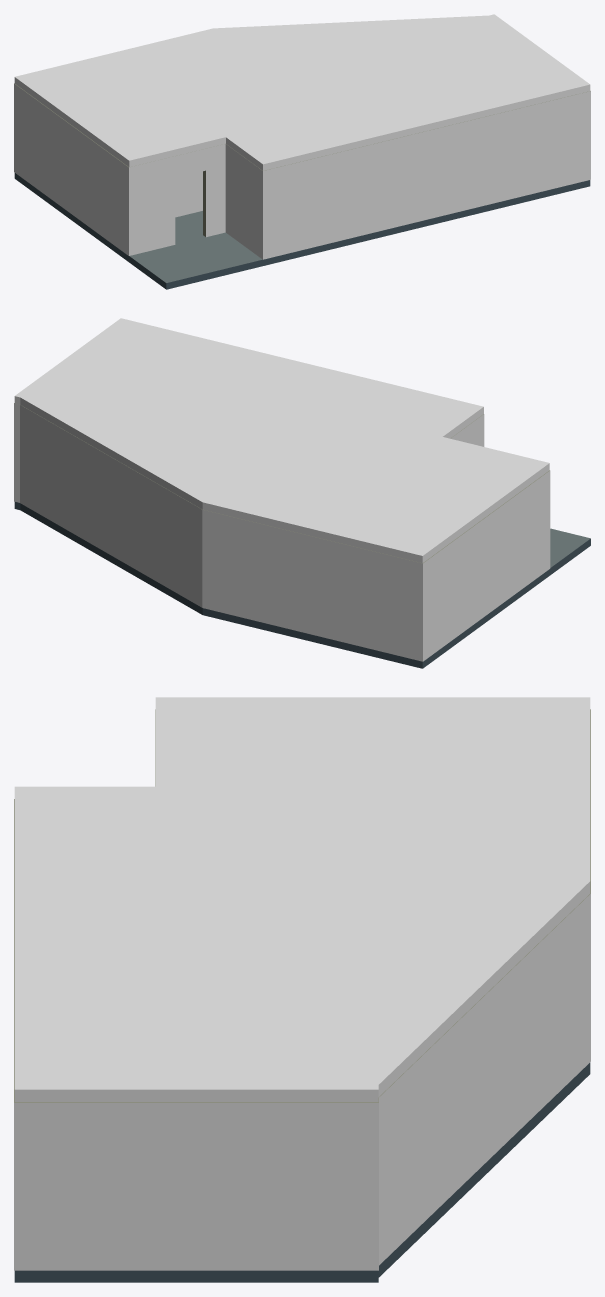
Rendered from Apartment_Shell1.fbx.
3 views of the same model, one above another, from view 1: azimuth 30°, elevation 25°; view 2: azimuth 150°, elevation 25°; view 3: azimuth 270°, elevation 25° (orthographic). The views are drawn at different scales.
Visible parts, largest first — view 1: Ceiling, Walls, Floor; view 2: Ceiling, Walls, Floor; view 3: Ceiling, Walls, Floor.
Part boxes in pixels (x1,y1,x2,y2): Ceiling: (14,14,590,170); Walls: (14,83,590,259); Floor: (14,173,590,289); Ceiling: (14,318,549,563); Walls: (14,403,550,661); Floor: (14,502,590,668); Ceiling: (14,697,590,1101); Walls: (14,709,590,1270); Floor: (14,1062,590,1282).
Size of the model in its own units: 1354 by 310 by 840.
